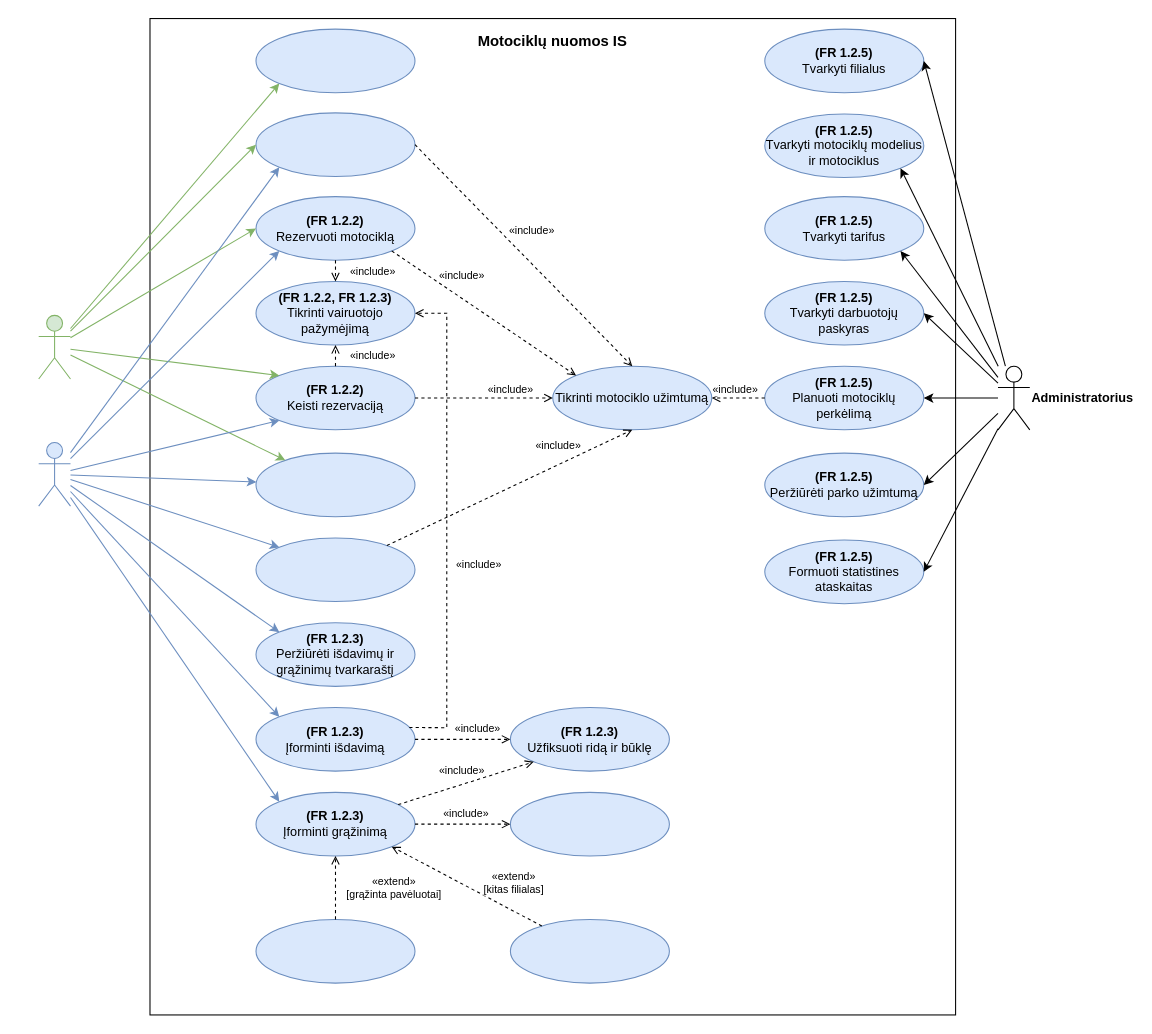
The diagram is 1152 pixels wide and 1034 high, and some of its shapes have lost their labels. Each missing label, with the box of its shape:
(FR 1.2.1) Ieškoti laisvų motociklų: (255, 112, 415, 176)
(FR 1.2.2) Atšaukti rezervaciją: (255, 452, 415, 517)
(FR 1.2.2) Peržiūrėti savo rezervacijas: (255, 28, 415, 93)
(FR 1.2.3) Apskaičiuoti baudą už pavėluotą grąžinimą: (255, 918, 415, 983)
(FR 1.2.3) Apskaičiuoti galutinę nuomos kainą: (509, 791, 669, 856)
(FR 1.2.3) Grąžinti į kitą filialą: (509, 918, 669, 983)
(FR 1.2.4) Planuoti techninę priežiūrą: (255, 537, 415, 602)
Filialo darbuotojas: (38, 441, 70, 506)
Klientas: (38, 314, 70, 379)
